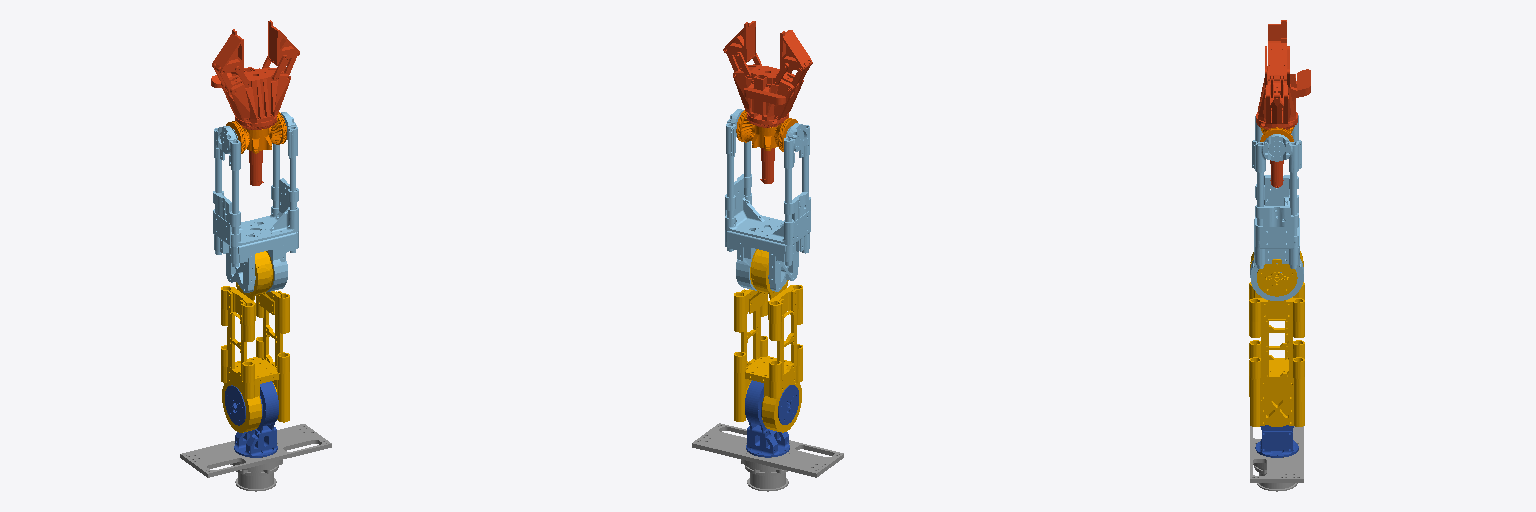
URDF robot description (mo):
<?xml version="1.0"?>
<!-- Generated using onshape-to-robot -->
<!-- Onshape
https://cad.onshape.com/documents/309dad1fcf96402f6f71fc39/w/c35272557fbbeae8da39f167/e/db58ff6c4be8431c47a43de3 -->
<robot name="mo">
  <!-- Connection to world frame -->
  <link name="world" />
  <joint name="world_to_base" type="fixed">
    <parent link="world" />
    <child link="base" />
    <origin xyz="0 0 0" rpy="0 0 0" />
  </joint>
  <!-- Link base -->
  <link name="base">
    <inertial>
      <origin xyz="-2.16227e-08 0.00395376 -0.020406" rpy="0 0 0" />
      <mass value="1.5" />
      <inertia ixx="0.00231197" ixy="5.53737e-08" ixz="-1.38101e-09" iyy="0.00883987"
        iyz="-9.13697e-05" izz="0.00983151" />
    </inertial>
    <!-- Part base -->
    <visual>
      <origin xyz="0 -3.46945e-18 -0.01" rpy="1.5708 -0 0" />
      <geometry>
        <mesh filename="package://arm_description/meshes/base.stl" />
      </geometry>
      <material name="base_material">
        <color rgba="0.647059 0.647059 0.647059 1.0" />
      </material>
    </visual>
    <collision>
      <origin xyz="0 -3.46945e-18 -0.01" rpy="1.5708 -0 0" />
      <geometry>
        <mesh filename="package://arm_description/meshes/base.stl" />
      </geometry>
    </collision>
  </link>
  <!-- Link link1 -->
  <link name="link1">
    <inertial>
      <origin xyz="-0.00578817 -0.000117457 -0.0870587" rpy="0 0 0" />
      <mass value="1" />
      <inertia ixx="0.00346557" ixy="-2.11688e-06" ixz="-0.000243462" iyy="0.00301399"
        iyz="-2.48279e-06" izz="0.00131141" />
    </inertial>
    <!-- Part link1 -->
    <visual>
      <origin xyz="-0.2088 0.189682 -0.278406" rpy="3.14159 -0.00114135 -6.48891e-27" />
      <geometry>
        <mesh filename="package://arm_description/meshes/link1.stl" />
      </geometry>
      <material name="link1_material">
        <color rgba="0.231373 0.380392 0.705882 1.0" />
      </material>
    </visual>
    <collision>
      <origin xyz="-0.2088 0.189682 -0.278406" rpy="3.14159 -0.00114135 -6.48891e-27" />
      <geometry>
        <mesh filename="package://arm_description/meshes/link1.stl" />
      </geometry>
    </collision>
  </link>
  <!-- Link link2 -->
  <link name="link2">
    <inertial>
      <origin xyz="-0.168342 -0.000183138 0.0196951" rpy="0 0 0" />
      <mass value="3" />
      <inertia ixx="0.00710836" ixy="-5.85998e-05" ixz="0.000438946" iyy="0.0548524"
        iyz="2.8723e-05" izz="0.0548111" />
    </inertial>
    <!-- Part link2 -->
    <visual>
      <origin xyz="-0.163294 -0.190051 -0.191365" rpy="-1.71323e-12 -1.56965 -4.62554e-24" />
      <geometry>
        <mesh filename="package://arm_description/meshes/link2.stl" />
      </geometry>
      <material name="link2_material">
        <color rgba="0.980392 0.713725 0.00392157 1.0" />
      </material>
    </visual>
    <collision>
      <origin xyz="-0.163294 -0.190051 -0.191365" rpy="-1.71323e-12 -1.56965 -4.62554e-24" />
      <geometry>
        <mesh filename="package://arm_description/meshes/link2.stl" />
      </geometry>
    </collision>
  </link>
  <!-- Link link3 -->
  <link name="link3">
    <inertial>
      <origin xyz="-0.1132 -0.000619866 0.0120358" rpy="0 0 0" />
      <mass value="2.5" />
      <inertia ixx="0.0106994" ixy="-0.000111264" ixz="-0.000249056" iyy="0.0350598"
        iyz="9.76657e-05" izz="0.029047" />
    </inertial>
    <!-- Part link3 -->
    <visual>
      <origin xyz="0.159645 0.189682 0.222566" rpy="3.14159 1.56965 3.40615e-23" />
      <geometry>
        <mesh filename="package://arm_description/meshes/link3.stl" />
      </geometry>
      <material name="link3_material">
        <color rgba="0.615686 0.811765 0.929412 1.0" />
      </material>
    </visual>
    <collision>
      <origin xyz="0.159645 0.189682 0.222566" rpy="3.14159 1.56965 3.40615e-23" />
      <geometry>
        <mesh filename="package://arm_description/meshes/link3.stl" />
      </geometry>
    </collision>
  </link>
  <!-- Link link4 -->
  <link name="link4">
    <inertial>
      <origin xyz="0.00225826 4.42852e-09 -0.0700065" rpy="0 0 0" />
      <mass value="0.5" />
      <inertia ixx="0.00096297" ixy="-8.67184e-12" ixz="-7.35389e-09" iyy="0.000946322"
        iyz="-3.11225e-10" izz="0.000280194" />
    </inertial>
    <!-- Part link4 -->
    <visual>
      <origin xyz="0.485145 0.189682 0.1388" rpy="-3.14159 1.56965 -4.52656e-23" />
      <geometry>
        <mesh filename="package://arm_description/meshes/link4.stl" />
      </geometry>
      <material name="link4_material">
        <color rgba="0.972549 0.529412 0.00392157 1.0" />
      </material>
    </visual>
    <collision>
      <origin xyz="0.485145 0.189682 0.1388" rpy="-3.14159 1.56965 -4.52656e-23" />
      <geometry>
        <mesh filename="package://arm_description/meshes/link4.stl" />
      </geometry>
    </collision>
  </link>
  <!-- Link link5 -->
  <link name="link5">
    <inertial>
      <origin xyz="-0.00177372 -0.00319097 -0.0723733" rpy="0 0 0" />
      <mass value="2.5" />
      <inertia ixx="0.0168033" ixy="-0.000181348" ixz="-3.49287e-05" iyy="0.0203016"
        iyz="-0.000201285" izz="0.00604047" />
    </inertial>
    <!-- Part link5 -->
    <visual>
      <origin xyz="0.195596 0.056999 0.0511451" rpy="3.14159 0.00616622 1.81136e-31" />
      <geometry>
        <mesh filename="package://arm_description/meshes/link5.stl" />
      </geometry>
      <material name="link5_material">
        <color rgba="0.866667 0.321569 0.156863 1.0" />
      </material>
    </visual>
    <collision>
      <origin xyz="0.195596 0.056999 0.0511451" rpy="3.14159 0.00616622 1.81136e-31" />
      <geometry>
        <mesh filename="package://arm_description/meshes/link5.stl" />
      </geometry>
    </collision>
  </link>
  <!-- Joint from link4 to link5 -->
  <joint name="joint5" type="revolute">
    <origin xyz="-0.0217753 1.04736e-08 -0.07" rpy="4.80986e-07 1.5708 0" />
    <parent link="link4" />
    <child link="link5" />
    <axis xyz="0 0 1" />
    <limit effort="1000" velocity="600" lower="-62.8319" upper="62.8319" />
    <joint_properties friction="0.5" />
  </joint>
  <!-- Joint from link3 to link4 -->
  <joint name="joint4" type="revolute">
    <origin xyz="-0.3255 6.49697e-08 0.0838538" rpy="-8.10997e-16 -2.09121e-15 7.10561e-13" />
    <parent link="link3" />
    <child link="link4" />
    <axis xyz="0 0 1" />
    <limit effort="1000" velocity="600" lower="-62.8319" upper="62.8319" />
    <joint_properties friction="0.5" />
  </joint>
  <!-- Joint from link2 to link3 -->
  <joint name="joint3" type="revolute">
    <origin xyz="-0.322939 -0.00036863 0.031201" rpy="3.14159 1.29235e-16 -1.29031e-12" />
    <parent link="link2" />
    <child link="link3" />
    <axis xyz="0 0 1" />
    <limit effort="1000" velocity="600" lower="-62.8319" upper="62.8319" />
    <joint_properties friction="0.5" />
  </joint>
  <!-- Joint from link1 to link2 -->
  <joint name="joint2" type="revolute">
    <origin xyz="-0.0174348 -0.000368354 -0.115112" rpy="3.14159 -1.5708 0" />
    <parent link="link1" />
    <child link="link2" />
    <axis xyz="0 0 1" />
    <limit effort="1000" velocity="600" lower="-62.8319" upper="62.8319" />
    <joint_properties friction="0.5" />
  </joint>
  <!-- Joint from base to link1 -->
  <joint name="joint1" type="revolute">
    <origin xyz="0 0 5.55112e-17" rpy="-3.14159 -1.17181e-19 1.2804e-26" />
    <parent link="base" />
    <child link="link1" />
    <axis xyz="0 0 1" />
    <limit effort="1000" velocity="600" lower="-62.8319" upper="62.8319" />
    <joint_properties friction="0.5" />
  </joint>
</robot>

--- What the picture shows (computed from the rendered views, not written in the file) ---
3 views of the same robot in one strip: view 1: azimuth 30°, elevation 25°; view 2: azimuth 150°, elevation 25°; view 3: azimuth 270°, elevation 25° (orthographic).
Model mo with 7 links and 6 joints (5 revolute, 1 fixed), rooted at world, posed every joint at zero.
Visible links, largest first — view 1: link3, link2, link5, base, link1, link4; view 2: link3, link2, link5, base, link1, link4; view 3: link2, link3, link5, base, link1.
Boxes of the visible links, x1,y1,x2,y2 form: link3: (213,112,298,292); link2: (221,251,289,432); link5: (211,20,299,185); base: (180,424,331,491); link1: (225,381,278,457); link4: (226,112,286,153); link3: (725,109,810,291); link2: (734,249,802,432); link5: (723,21,812,183); base: (692,423,843,491); link1: (745,380,798,457); link4: (736,110,797,151); link2: (1249,251,1304,426); link3: (1250,115,1303,300); link5: (1256,20,1310,187); base: (1250,426,1303,491); link1: (1255,425,1298,457).
Size in the robot's own frame: 0.314 by 0.1345 by 1.1 metres.
Meshes: 6 distinct files referenced, 6 mesh visuals loaded (6 binary STL).